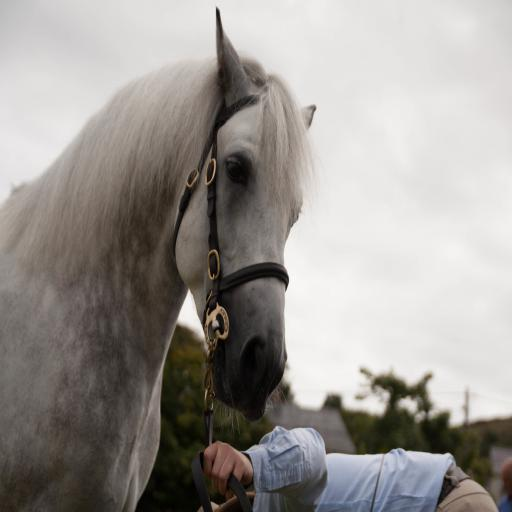Horse: (0, 5, 319, 511)
